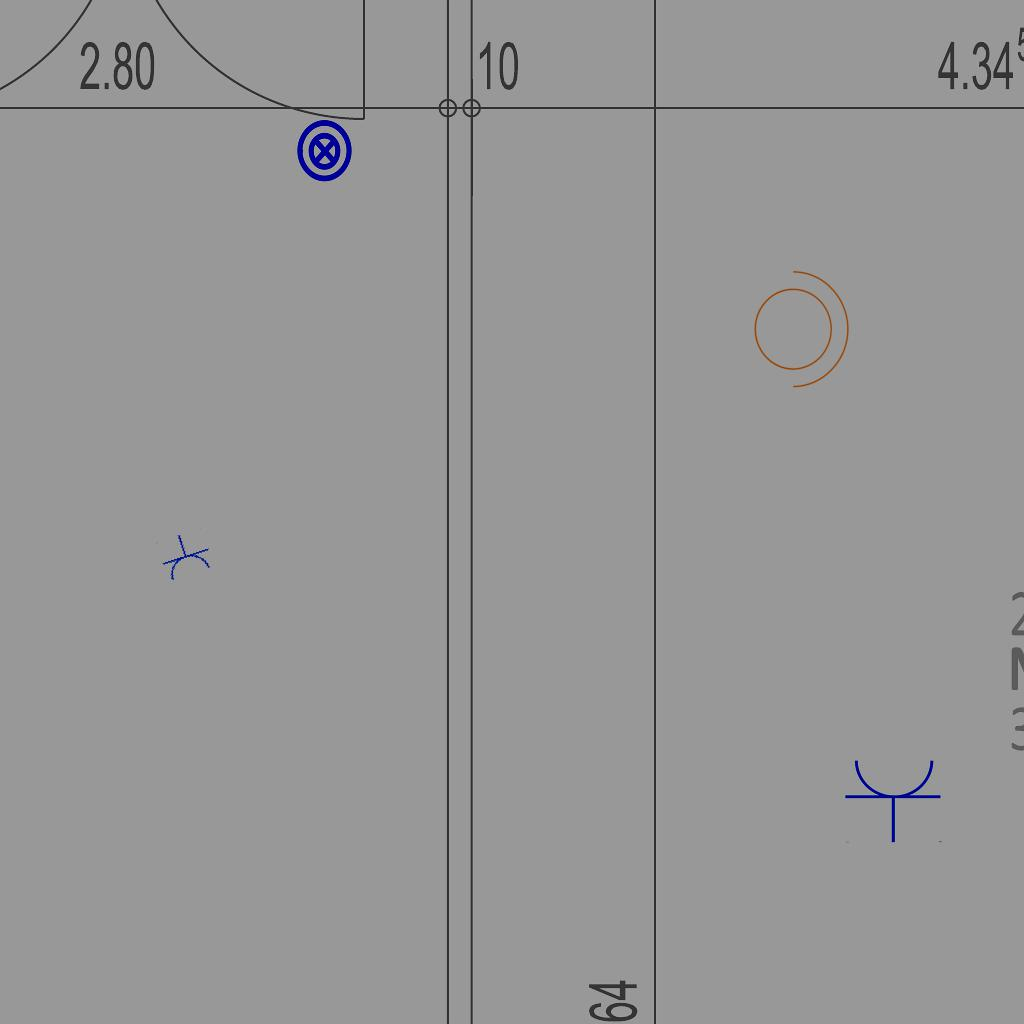Scheinwerfer_fuer_Alarmbeleuchtung: (742, 260, 854, 392)
Schukosteckdose_einfach: (844, 756, 944, 843), (154, 527, 216, 584)
Taster_beleuchtet: (292, 118, 358, 184)
